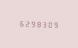eight: (35, 19, 40, 28)
nine: (29, 19, 34, 27), (53, 20, 58, 28)
six: (17, 19, 22, 27)
three: (41, 20, 46, 28)
two: (23, 19, 28, 27)
zero: (47, 20, 52, 28)
